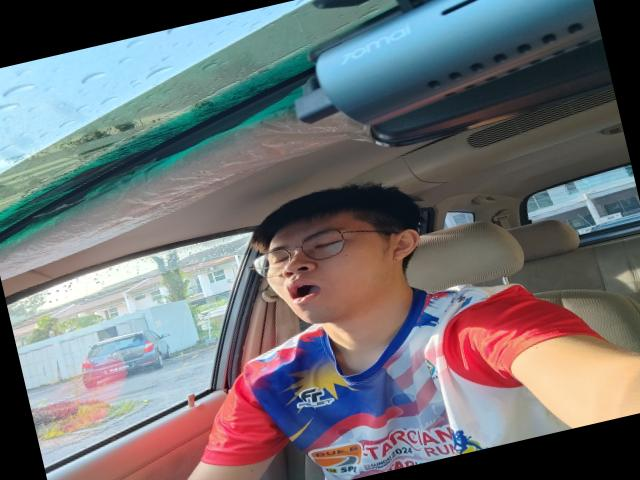eye_closed: (308, 234, 344, 254), (265, 250, 296, 269)
face: (251, 213, 379, 335)
mouth_open: (280, 273, 325, 308)
